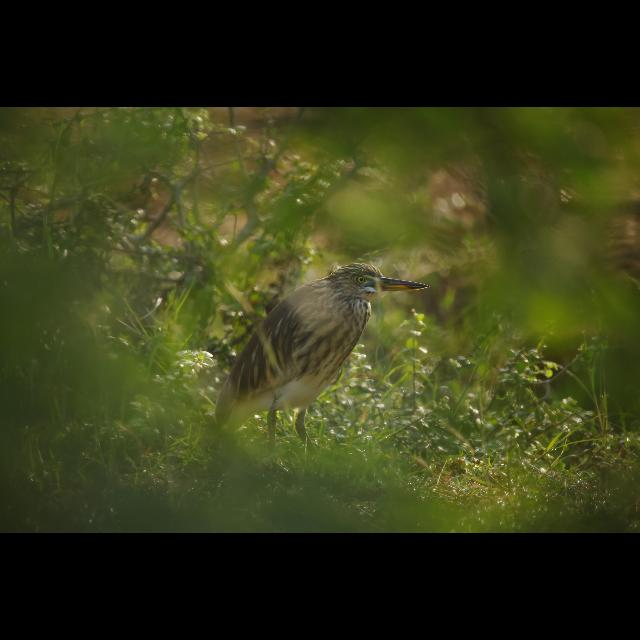heron: (214, 261, 428, 437)
